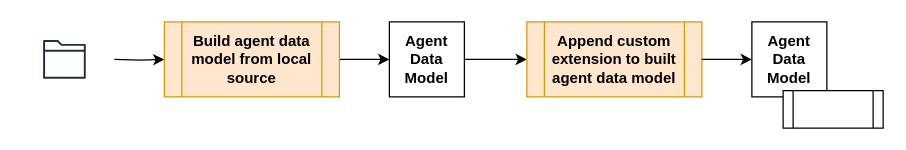
Image size: 906x150. Some labels were removed from this diagram. Each missing label, with the centre of its shape:
"Custom Extension" belongs at (x=832, y=108).
"Source Code" belongs at (x=63, y=58).
